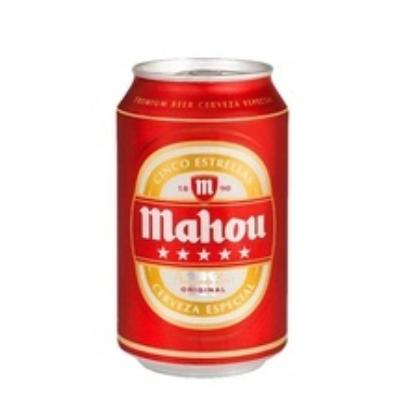Can: (115, 57, 288, 376)
